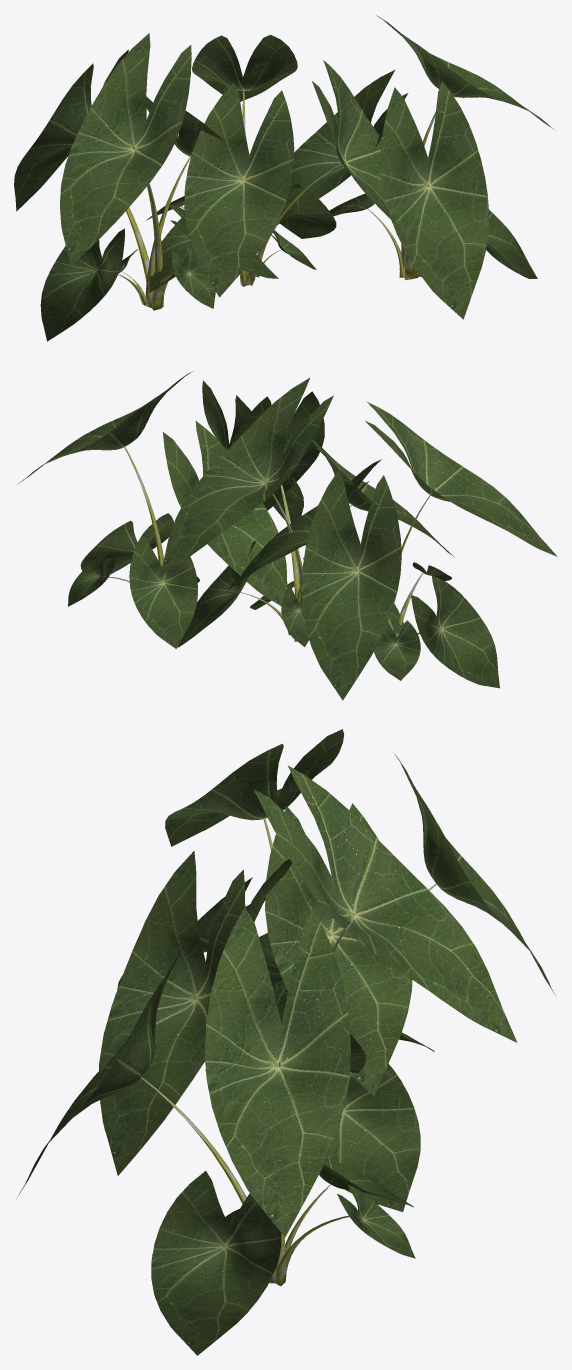
File: Plant1.fbx
3 views of the same model, one above another, from view 1: azimuth 30°, elevation 25°; view 2: azimuth 150°, elevation 25°; view 3: azimuth 270°, elevation 25° (orthographic). The views are drawn at different scales.
Visible parts, largest first — view 1: Group15, Group60, Group33, Group51, Group36, Group12, Group57, Group39, Group18, Group9, Group30, Group48 (+9 smaller); view 2: Group57, Group39, Group60, Group12, Group51, Group3, Group18, Group36, Group54, Group9, Group15, Group30 (+5 smaller); view 3: Group18, Group39, Group36, Group9, Group54, Group30, Group60, Group57, Group15, Group6, Group3, Group33.
Boxes of the visible parts, bbox=[...] form: Group15: bbox=[380, 81, 488, 319]; Group60: bbox=[60, 33, 191, 265]; Group33: bbox=[184, 82, 294, 297]; Group51: bbox=[40, 228, 124, 341]; Group36: bbox=[312, 60, 399, 227]; Group12: bbox=[278, 70, 408, 224]; Group57: bbox=[14, 49, 128, 211]; Group39: bbox=[192, 34, 297, 101]; Group18: bbox=[376, 15, 554, 129]; Group9: bbox=[486, 210, 537, 278]; Group30: bbox=[280, 184, 336, 238]; Group48: bbox=[172, 247, 215, 308]; Group57: bbox=[301, 470, 401, 700]; Group39: bbox=[160, 378, 333, 576]; Group60: bbox=[365, 402, 557, 556]; Group12: bbox=[162, 421, 287, 605]; Group51: bbox=[411, 575, 499, 688]; Group3: bbox=[129, 535, 197, 648]; Group18: bbox=[17, 371, 192, 484]; Group36: bbox=[230, 391, 324, 510]; Group54: bbox=[227, 459, 381, 589]; Group9: bbox=[80, 513, 173, 573]; Group15: bbox=[202, 380, 303, 522]; Group30: bbox=[177, 540, 259, 647]; Group18: bbox=[204, 907, 350, 1237]; Group39: bbox=[254, 765, 517, 1042]; Group36: bbox=[99, 851, 245, 1175]; Group9: bbox=[151, 1171, 281, 1355]; Group54: bbox=[265, 803, 412, 1096]; Group30: bbox=[327, 1035, 420, 1211]; Group60: bbox=[165, 729, 344, 846]; Group57: bbox=[394, 753, 556, 996]; Group15: bbox=[17, 943, 186, 1197]; Group6: bbox=[337, 1185, 415, 1258]; Group3: bbox=[319, 1158, 413, 1207]; Group33: bbox=[114, 858, 291, 998].
Bounding box in the file's own units: 59.98 × 31.45 × 38.73.
